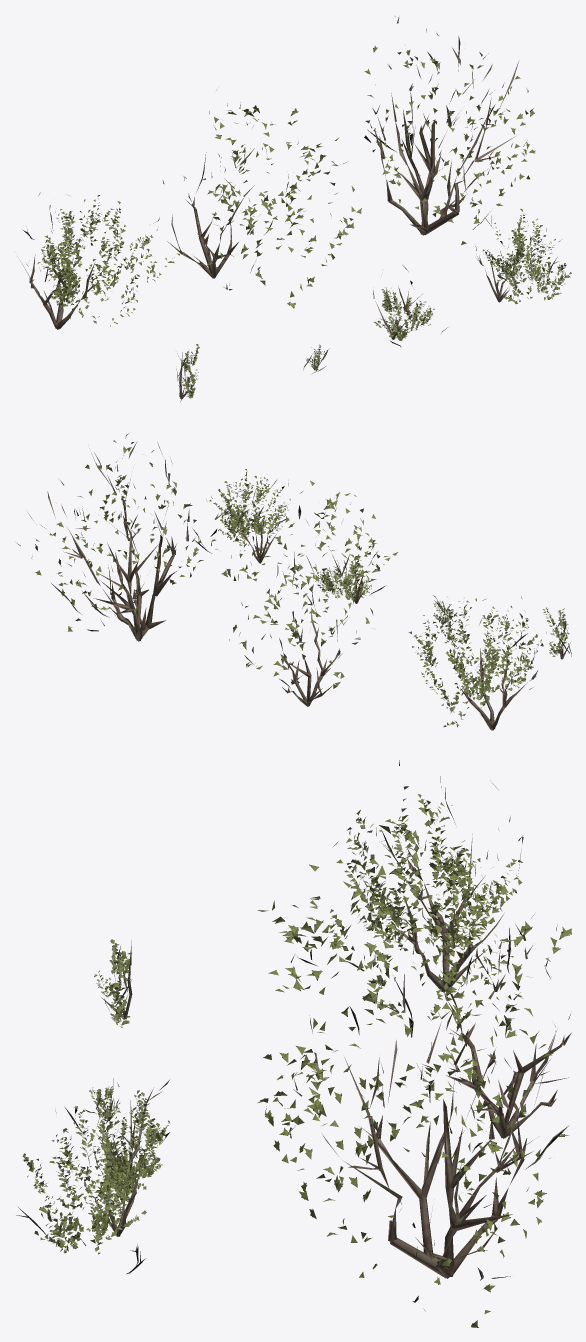
Rendered from bush_dry.glb.
3 views of the same model, one above another, from view 1: azimuth 30°, elevation 25°; view 2: azimuth 150°, elevation 25°; view 3: azimuth 270°, elevation 25° (orthographic). The views are drawn at different scales.
Visible parts, largest first — view 1: searsia_lucida_a_LOD0, searsia_lucida_c_LOD0, searsia_lucida_b_LOD0, searsia_lucida_d_LOD0, searsia_lucida_e_LOD0, searsia_lucida_g_LOD0; view 2: searsia_lucida_a_LOD0, searsia_lucida_c_LOD0, searsia_lucida_b_LOD0, searsia_lucida_d_LOD0, searsia_lucida_e_LOD0, searsia_lucida_g_LOD0; view 3: searsia_lucida_a_LOD0, searsia_lucida_c_LOD0, searsia_lucida_b_LOD0, searsia_lucida_d_LOD0, searsia_lucida_e_LOD0, searsia_lucida_g_LOD0.
Part boxes in pixels (x1=…): searsia_lucida_a_LOD0: x1=364, y1=16, x2=535, y2=244; searsia_lucida_c_LOD0: x1=17, y1=192, x2=182, y2=329; searsia_lucida_b_LOD0: x1=162, y1=90, x2=361, y2=308; searsia_lucida_d_LOD0: x1=475, y1=209, x2=571, y2=303; searsia_lucida_e_LOD0: x1=373, y1=265, x2=447, y2=347; searsia_lucida_g_LOD0: x1=176, y1=344, x2=199, y2=401; searsia_lucida_a_LOD0: x1=16, y1=433, x2=247, y2=641; searsia_lucida_c_LOD0: x1=409, y1=595, x2=552, y2=730; searsia_lucida_b_LOD0: x1=221, y1=481, x2=397, y2=706; searsia_lucida_d_LOD0: x1=192, y1=469, x2=290, y2=563; searsia_lucida_e_LOD0: x1=315, y1=546, x2=386, y2=603; searsia_lucida_g_LOD0: x1=542, y1=607, x2=571, y2=659; searsia_lucida_a_LOD0: x1=260, y1=945, x2=569, y2=1327; searsia_lucida_c_LOD0: x1=328, y1=760, x2=523, y2=1020; searsia_lucida_b_LOD0: x1=258, y1=818, x2=571, y2=1164; searsia_lucida_d_LOD0: x1=16, y1=1078, x2=146, y2=1274; searsia_lucida_e_LOD0: x1=58, y1=1080, x2=169, y2=1192; searsia_lucida_g_LOD0: x1=94, y1=939, x2=132, y2=1027.
Size of the model in its own units: 4.3 by 1.72 by 2.52.
3 materials, 3 textured.
